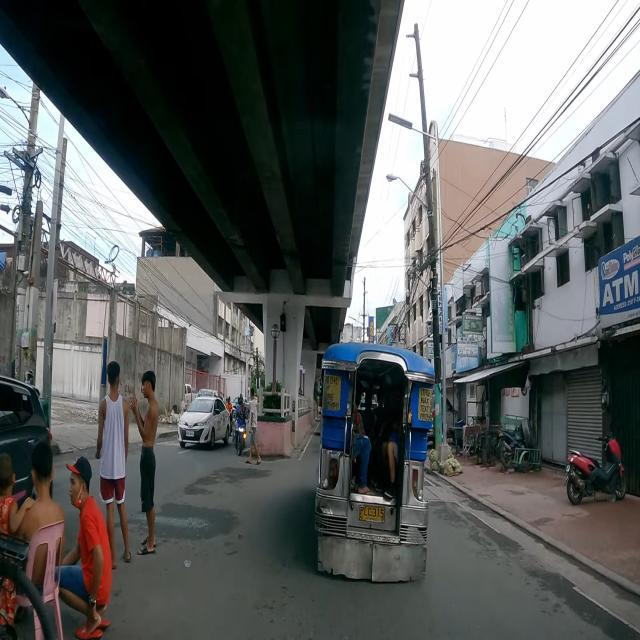car: (0, 376, 52, 504), (178, 396, 230, 448)
jeepney: (314, 342, 434, 582)
motorcycle: (566, 433, 626, 504), (232, 393, 249, 456)
